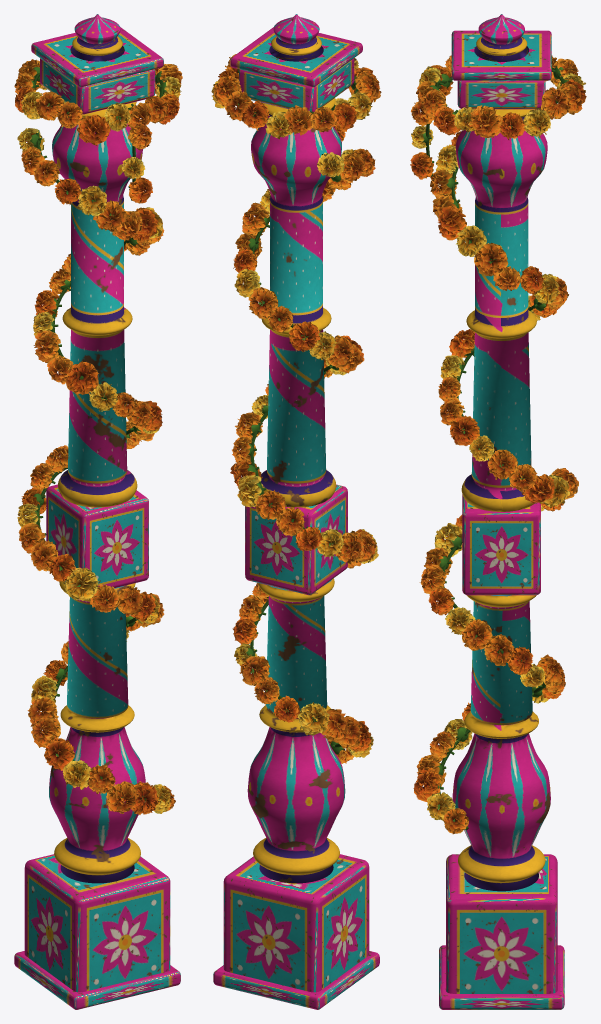
The model's file is w3_court_arch_post.glb.
3 views of the same model, side by side, from view 1: azimuth 30°, elevation 25°; view 2: azimuth 150°, elevation 25°; view 3: azimuth 270°, elevation 25° (orthographic).
Parts seen in each view (by area): view 1: w3_court_arch_post; view 2: w3_court_arch_post; view 3: w3_court_arch_post.
Boxes of the visible parts, x1,y1,x2,y2 form: w3_court_arch_post: (14,14,182,1009); w3_court_arch_post: (211,14,381,1009); w3_court_arch_post: (410,14,586,1009).
Bounding box in the file's own units: 0.3737 × 2.3 × 0.3797.
4 materials, 4 textured.
